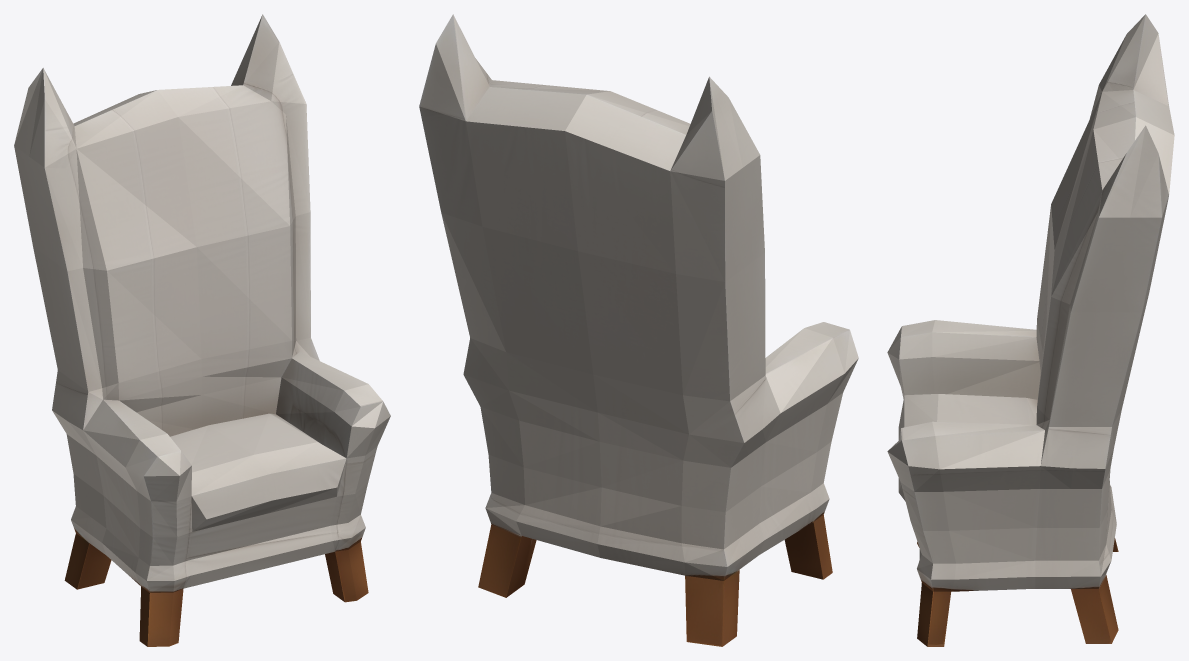
3 renders of one model, left to right at view 1: azimuth 30°, elevation 25°; view 2: azimuth 150°, elevation 25°; view 3: azimuth 270°, elevation 25°, orthographic. The views are drawn at different scales.
Parts seen in each view (by area): view 1: mesh.001; view 2: mesh.001; view 3: mesh.001.
Boxes of the visible parts, left/top/right/bottom form: mesh.001: left=14, top=14, right=390, bottom=646; mesh.001: left=419, top=14, right=858, bottom=646; mesh.001: left=887, top=14, right=1174, bottom=646.
Size of the model in its own units: 0.4352 by 0.7968 by 0.3978.
1 material, 1 textured.
